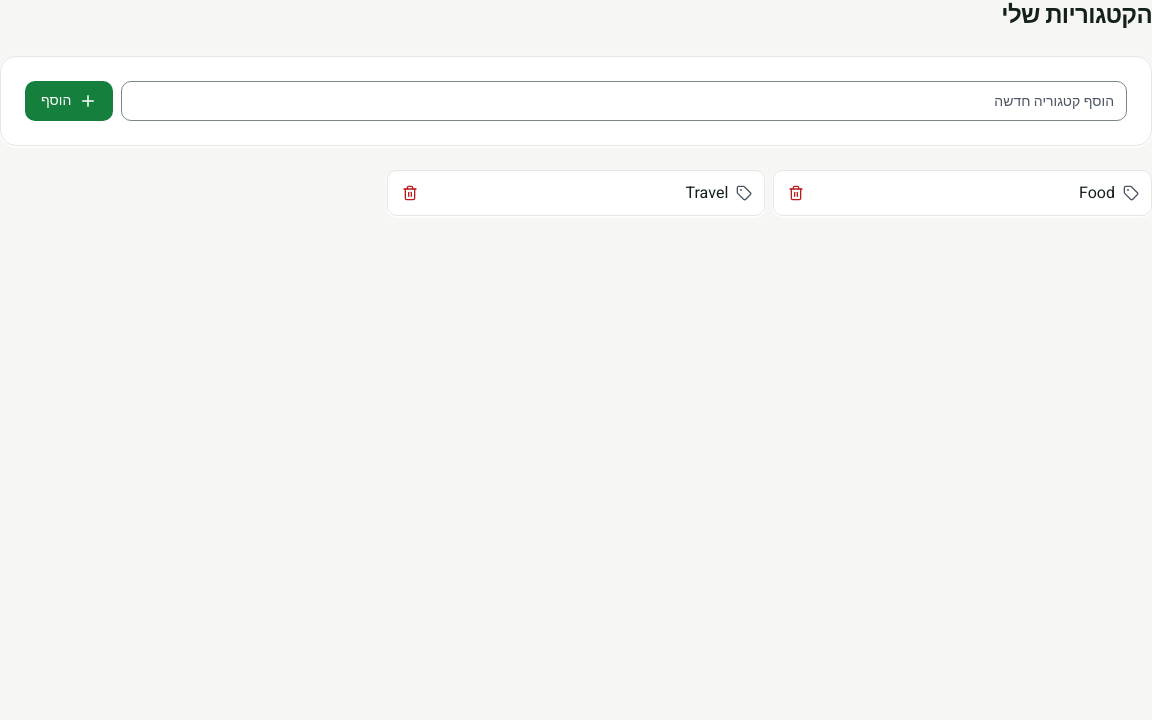
it: CategoriesPage failed writes › a failed delete shows a Hebrew error
Step 1. Click the button named "מחק קטגוריה Food" → (796, 193), box [778,175,814,211]
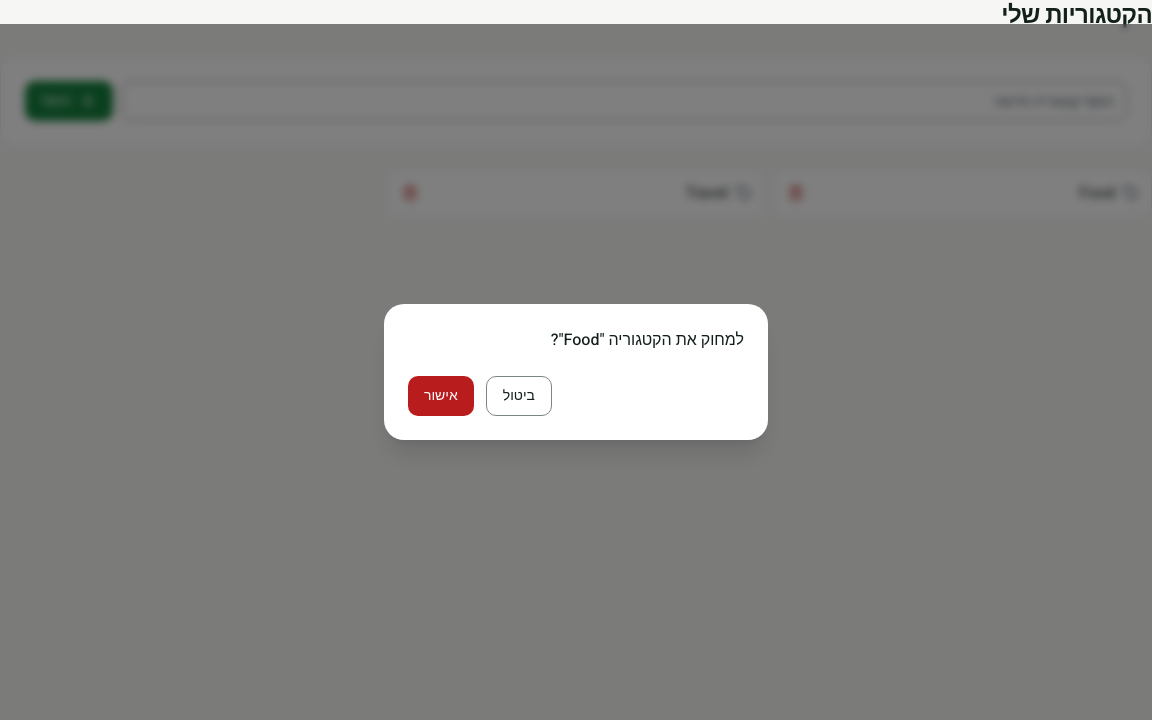
Step 2. Click the button "אישור" → (441, 396), box [408,376,474,416]
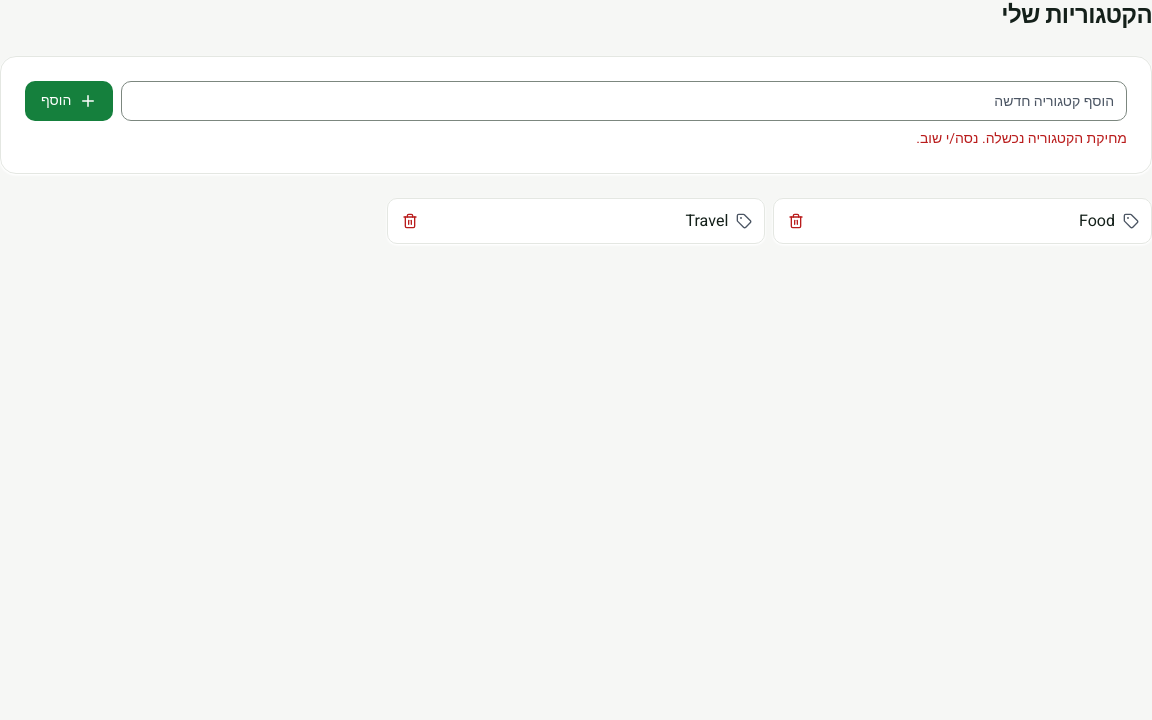
Check: the message "מחיקת הקטגוריה נכשלה. נסה/י שוב." is shown, box [916,128,1127,149]
